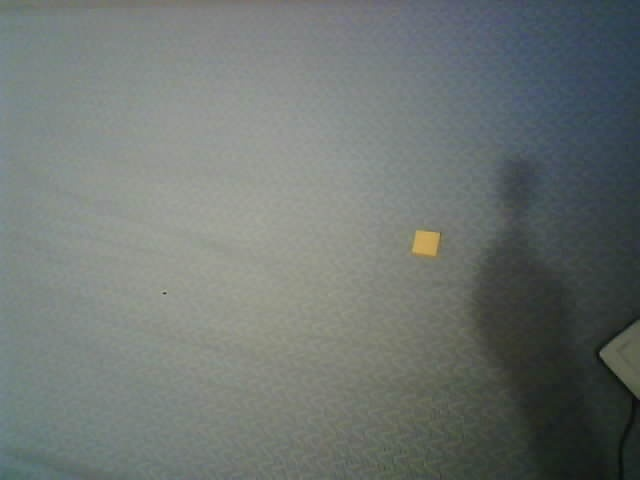lego: (411, 230, 442, 258)
